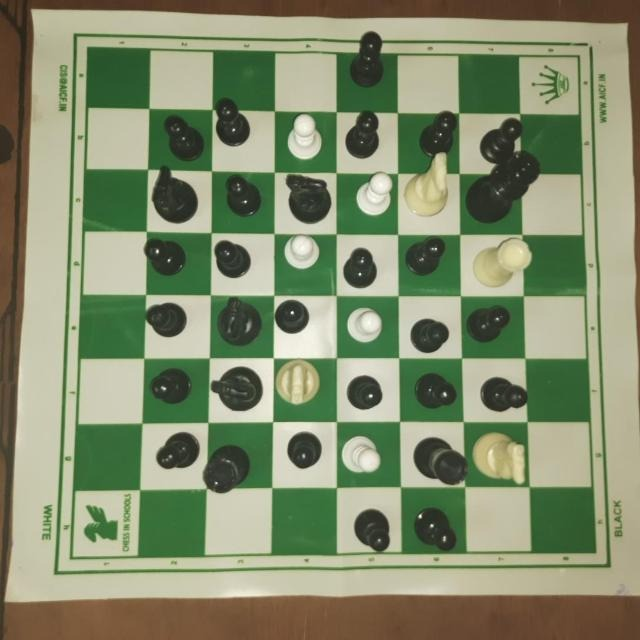black-knight: (207, 358, 265, 416), (277, 171, 337, 227), (212, 294, 270, 349), (149, 165, 199, 219)
black-pawn: (408, 492, 463, 564), (341, 29, 395, 95), (348, 496, 396, 562), (206, 91, 253, 154), (402, 365, 462, 413), (159, 111, 214, 163), (403, 307, 455, 359), (215, 173, 269, 223), (147, 360, 195, 415), (336, 241, 384, 296), (342, 104, 384, 166), (147, 424, 201, 472), (464, 300, 521, 345), (476, 112, 531, 157), (139, 232, 190, 280), (464, 377, 528, 415), (280, 427, 327, 477), (144, 294, 191, 344), (401, 232, 445, 284), (349, 367, 387, 424), (415, 106, 457, 156), (269, 297, 315, 341), (212, 231, 251, 281)
black-queen: (464, 151, 547, 223)
black-rook: (407, 430, 463, 486), (200, 443, 259, 495)
white-knight: (470, 426, 535, 487), (401, 153, 451, 218), (274, 354, 323, 406)
white-pawn: (350, 167, 399, 223), (336, 432, 388, 476), (284, 112, 326, 166), (346, 304, 387, 348), (282, 233, 322, 275)
white-rook: (467, 237, 541, 291)
